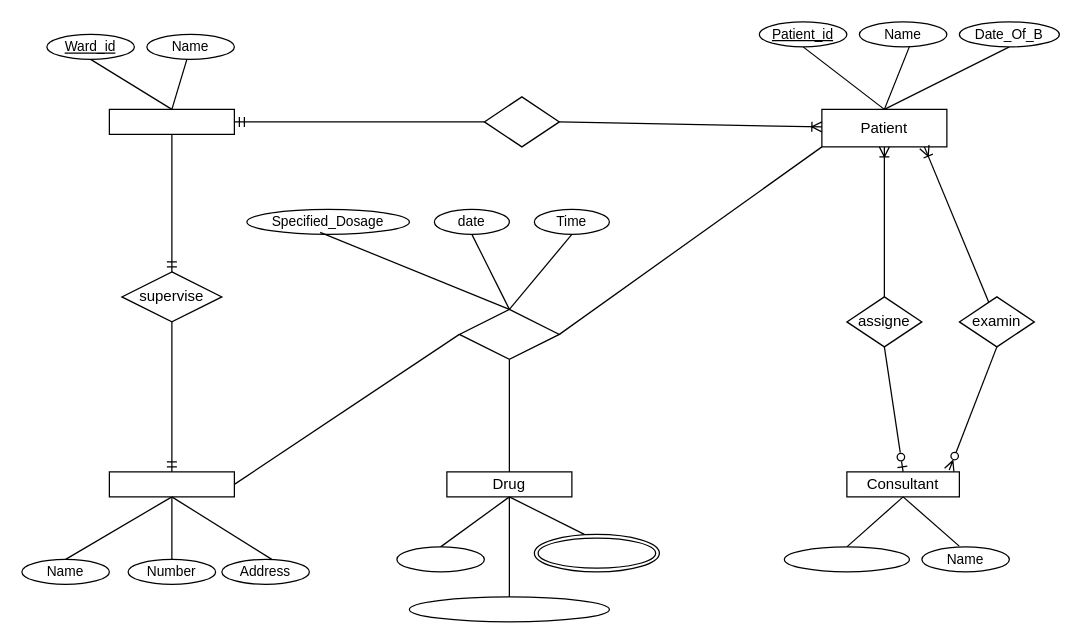
Some shapes in this 1081 by 644 pixel diagram are drawn without their labels. The shapes that lost their labels are listed below. From the top down, each one's centre as x and y in pixels, then its label:
point 171,121: Ward
point 521,121: host
point 508,333: give
point 171,484: Nurse
point 440,559: Code
point 596,552: Breand_Name
point 846,559: Consultant _id
point 508,609: Recommended_dosage
